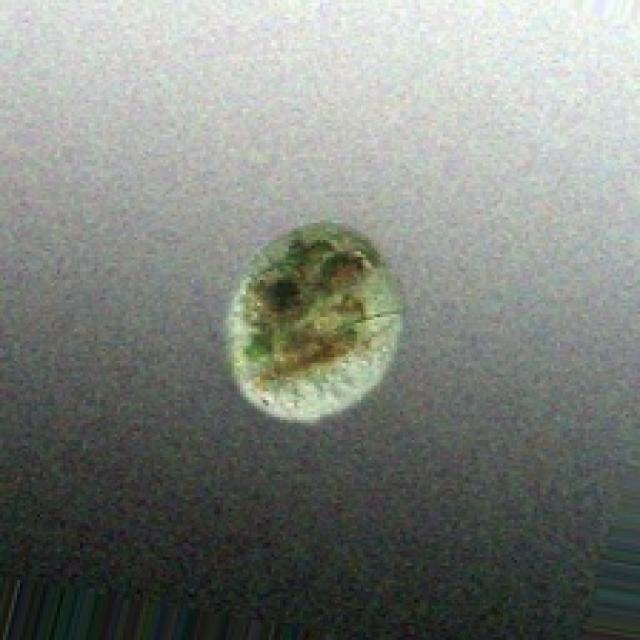Amoeba: (223, 217, 406, 423)
